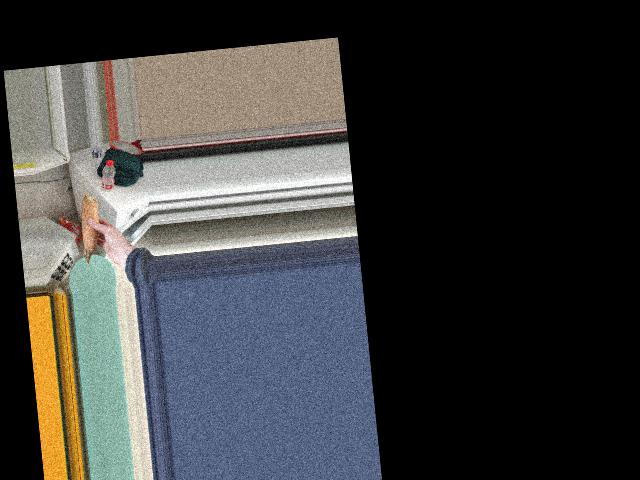sweet_potato: (79, 199, 107, 262)
